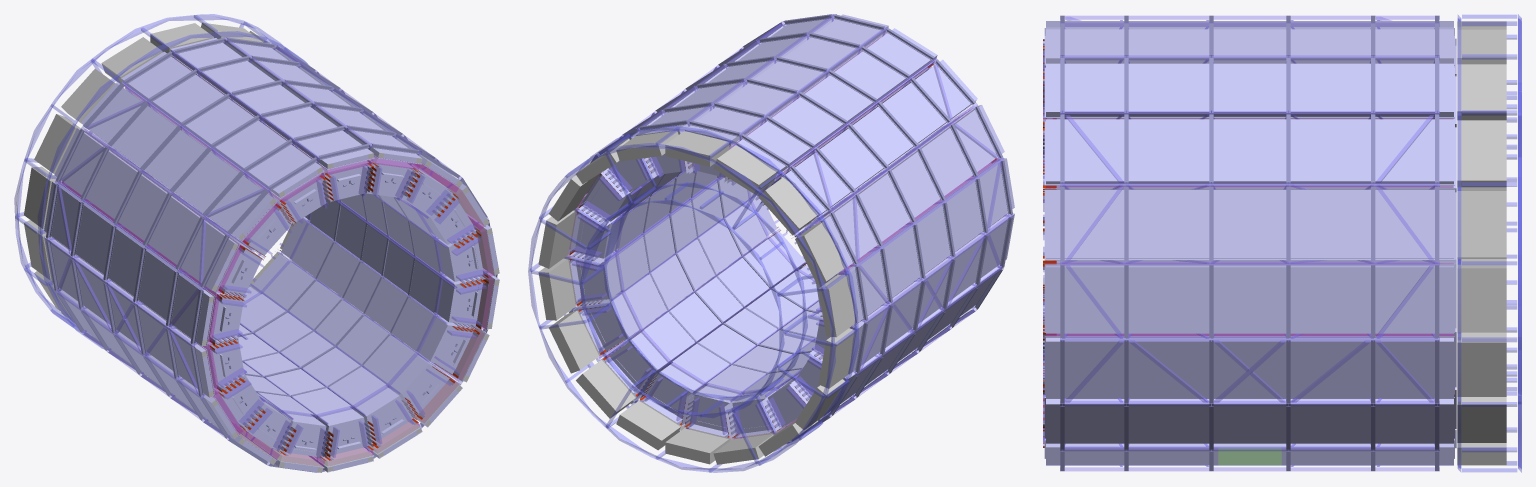
The model's file is g4_barrel.glb.
3 views of the same model, side by side, from view 1: azimuth 30°, elevation 25°; view 2: azimuth 150°, elevation 25°; view 3: azimuth 270°, elevation 25° (orthographic). The views are drawn at different scales.
Visible parts, largest first — view 1: Mesh_4.018; view 2: Mesh_4.018; view 3: Mesh_4.018.
Part boxes in pixels (bbox=[...]): Mesh_4.018: bbox=[14, 14, 499, 472]; Mesh_4.018: bbox=[528, 14, 1014, 472]; Mesh_4.018: bbox=[1043, 14, 1521, 472].
Bounding box in the file's own units: 834 × 834 × 869.
